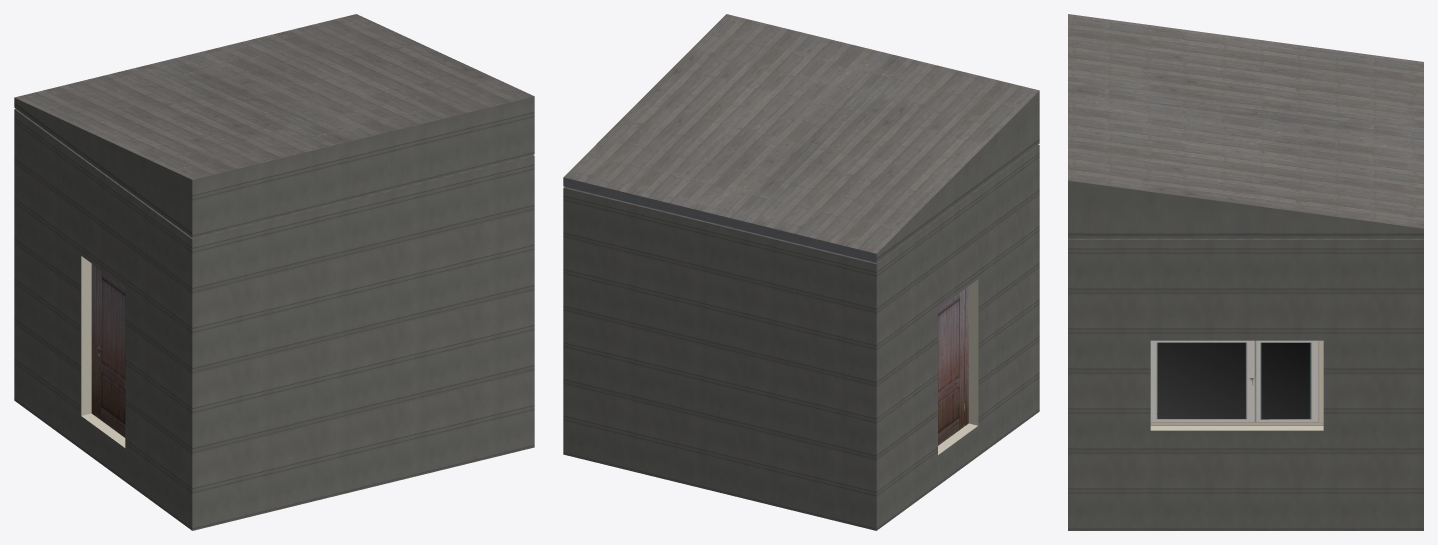
Rendered from bud.gltf.
3 views of the same model, side by side, from view 1: azimuth 30°, elevation 25°; view 2: azimuth 150°, elevation 25°; view 3: azimuth 270°, elevation 25° (orthographic). The views are drawn at different scales.
Parts seen in each view (by area): view 1: Budka_StaticMeshComponent0; view 2: Budka_StaticMeshComponent0; view 3: Budka_StaticMeshComponent0.
Boxes of the visible parts, left/top/right/bottom form: Budka_StaticMeshComponent0: left=14, top=14, right=534, bottom=530; Budka_StaticMeshComponent0: left=563, top=14, right=1039, bottom=530; Budka_StaticMeshComponent0: left=1068, top=14, right=1423, bottom=530.
Bounding box in the file's own units: 4.47 × 4.38 × 4.03.
Materials: 7 (7 with a texture image).
